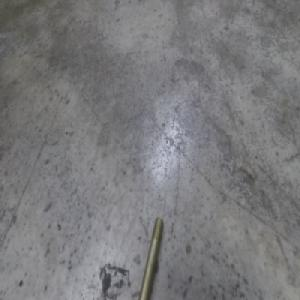Bolt: (135, 211, 162, 300)
